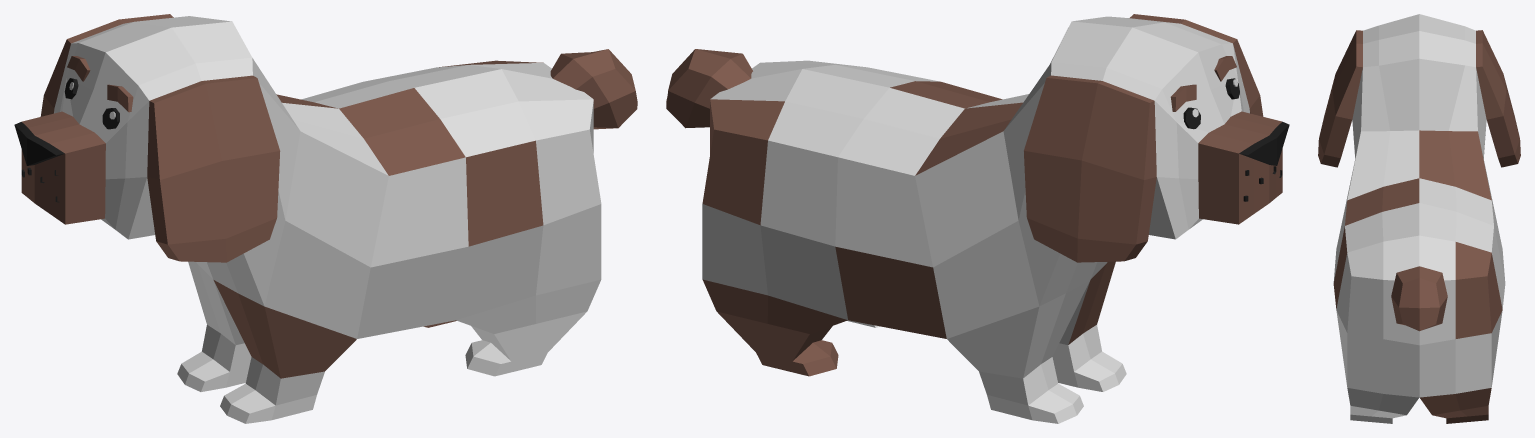
Rendered from Dog_01.obj.
The picture shows the model from 3 angles, left to right: view 1: azimuth 30°, elevation 25°; view 2: azimuth 150°, elevation 25°; view 3: azimuth 270°, elevation 25°; orthographic projection. The views are drawn at different scales.
Visible parts, largest first — view 1: Cube_Cube.022; view 2: Cube_Cube.022; view 3: Cube_Cube.022.
Part boxes in pixels (x1,y1,x2,y2): Cube_Cube.022: [14, 14, 637, 423]; Cube_Cube.022: [666, 14, 1289, 423]; Cube_Cube.022: [1318, 14, 1520, 423].
Size of the model in its own units: 321 by 191 by 127.
